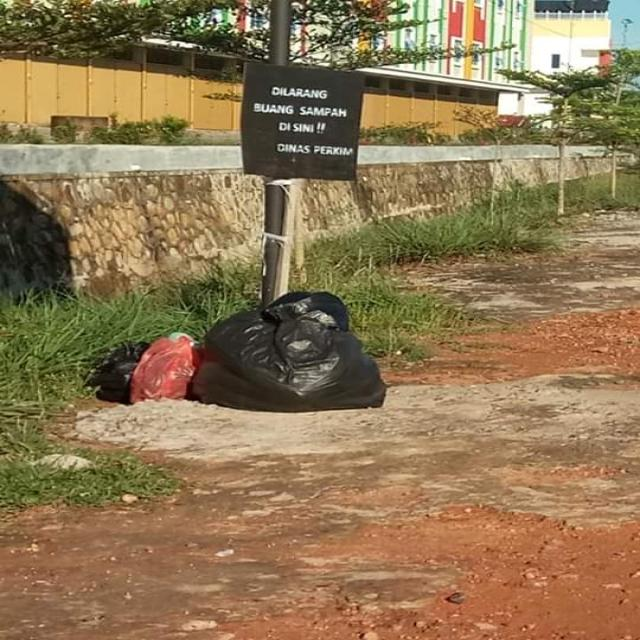sampah-detection: (81, 286, 390, 412)
